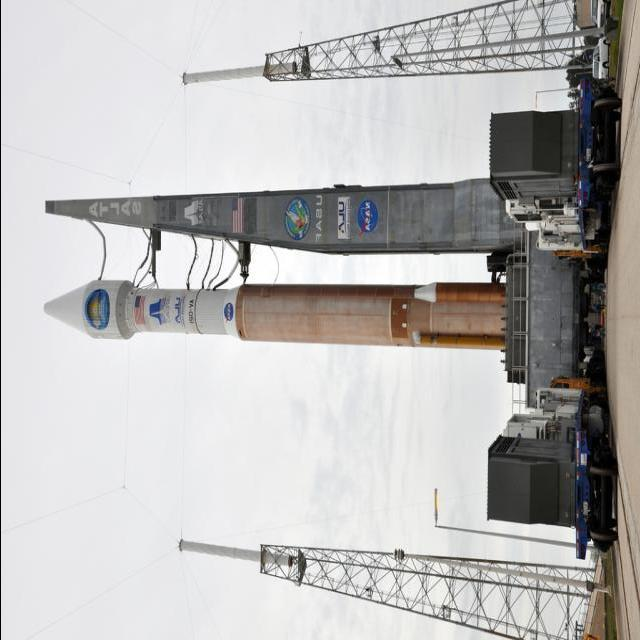Missile: (43, 275, 507, 345)
